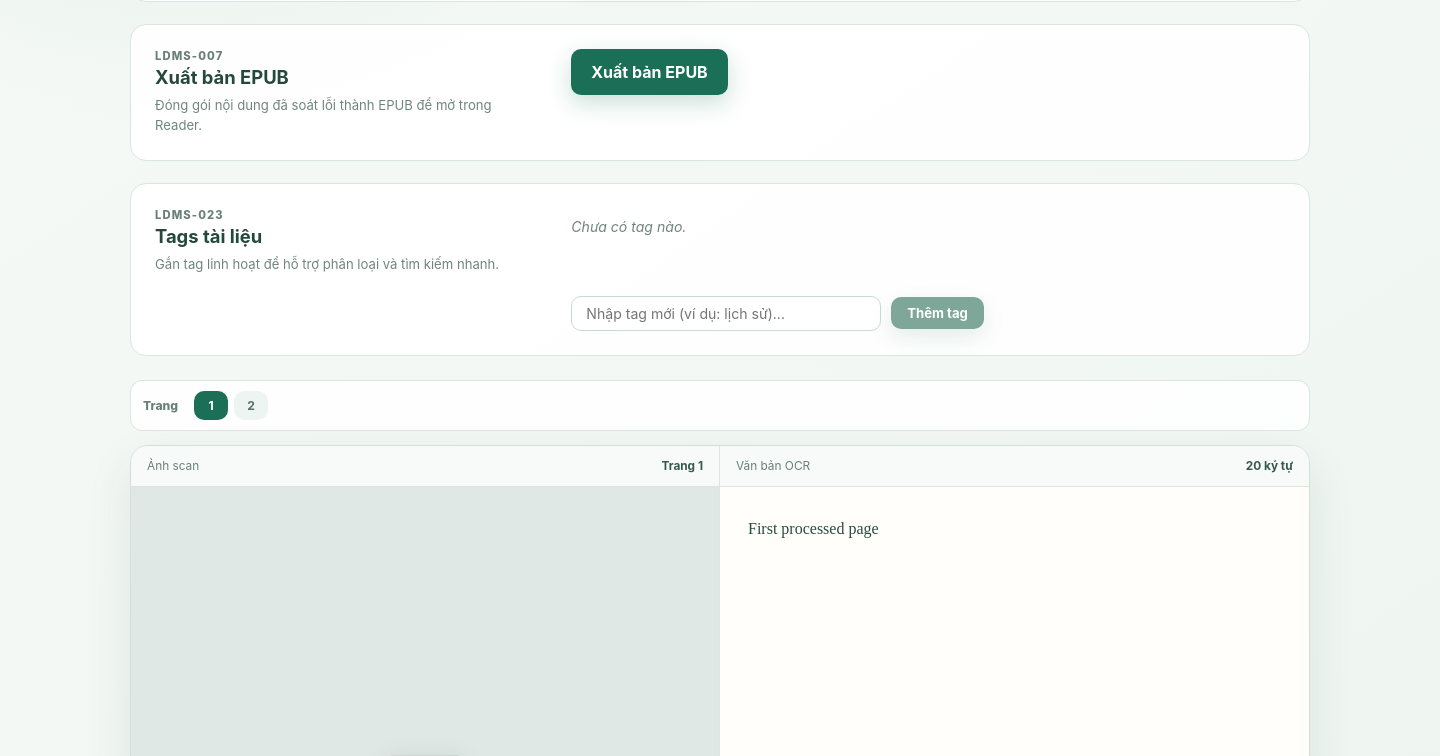
DocumentViewerPage › loads a dynamic document route and switches scan/text pages together
(page scrolled)
Click the button "2".
click(251, 405)  # box [234,391,268,420]
(page scrolled)
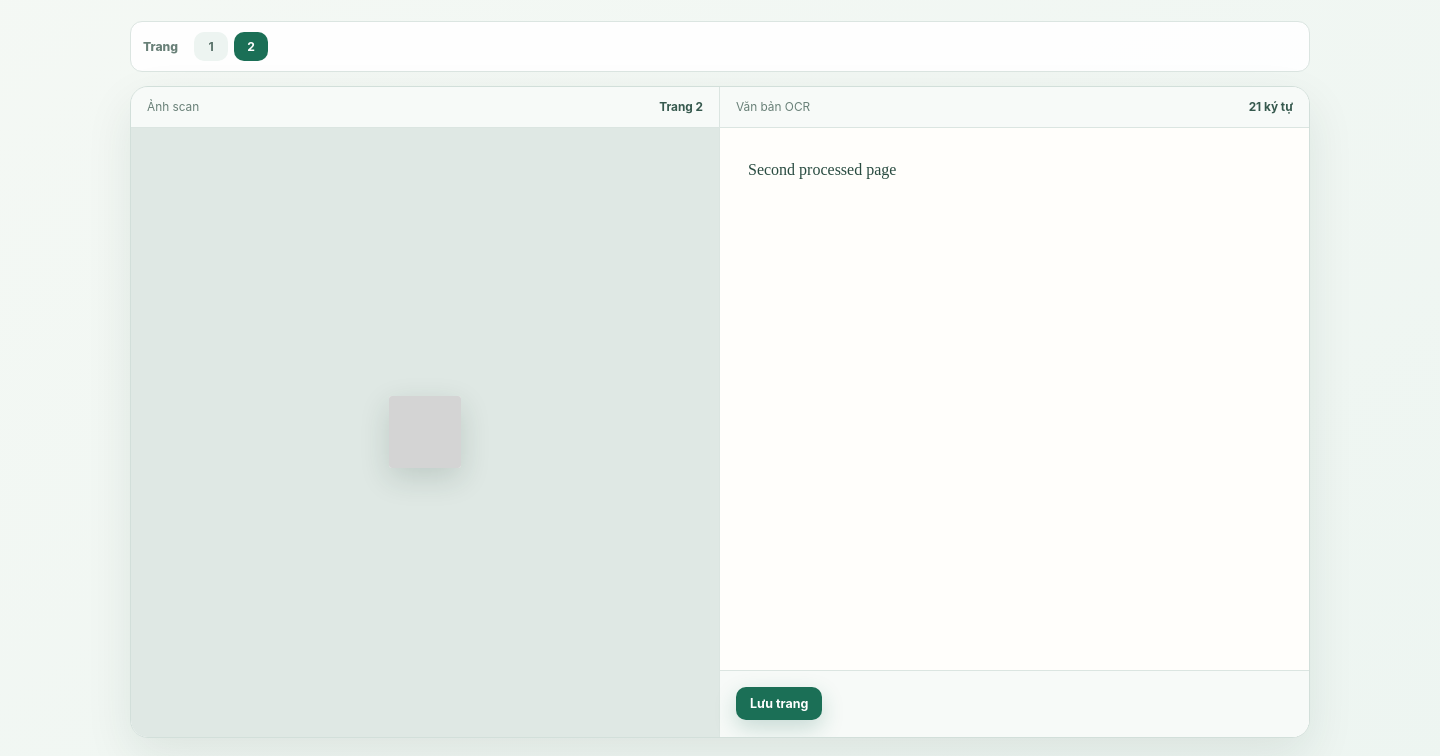
Result: the text box named "Nội dung OCR trang 2" holds "Second processed page" at [720,128,1309,670]
